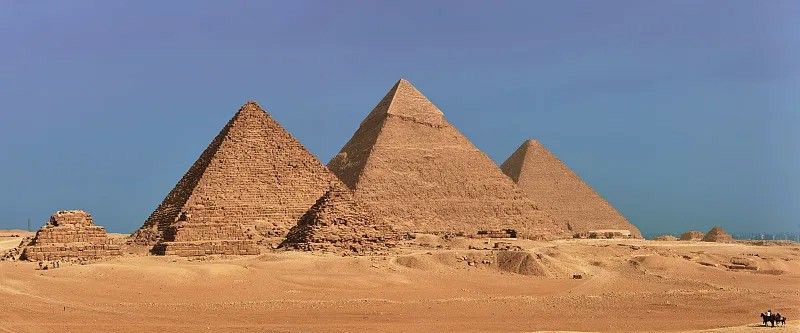Pyramid: (328, 78, 568, 237), (128, 102, 347, 250), (498, 140, 644, 236), (279, 186, 407, 252), (151, 196, 263, 255), (14, 209, 128, 260)
